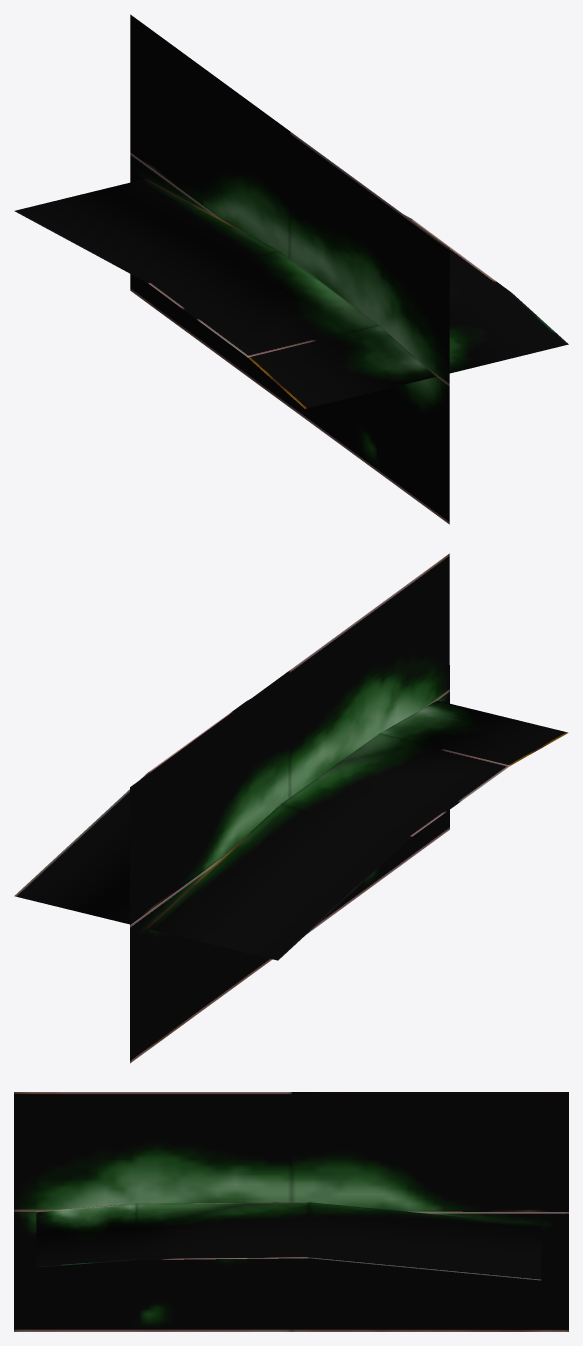
3 renders of one model, top to bottom at view 1: azimuth 30°, elevation 25°; view 2: azimuth 150°, elevation 25°; view 3: azimuth 270°, elevation 25°, orthographic. The views are drawn at different scales.
Parts seen in each view (by area): view 1: T1L9M004_14; view 2: T1L9M004_14; view 3: T1L9M004_14.
Boxes of the visible parts, box(x1,y1,x2,y2) form: T1L9M004_14: box(14, 14, 568, 524); T1L9M004_14: box(14, 553, 568, 1063); T1L9M004_14: box(14, 1092, 568, 1331).
Size of the model in its own units: 0.957 by 0.9541 by 2.
